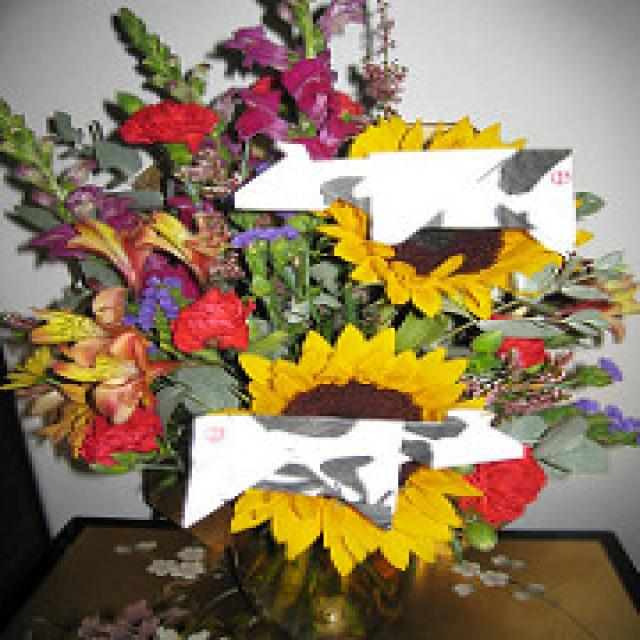sunflower: (192, 322, 508, 586), (313, 107, 597, 317)
